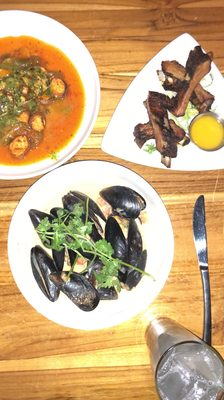salad: (145, 316, 224, 400)
sandwich: (191, 194, 212, 352)
sushi: (5, 160, 174, 332), (0, 12, 100, 185)
